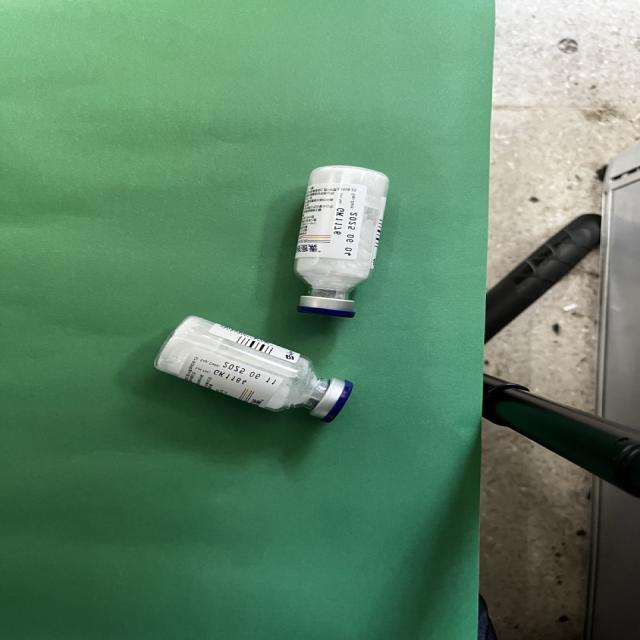Vials: (155, 316, 353, 421), (295, 166, 389, 318)
